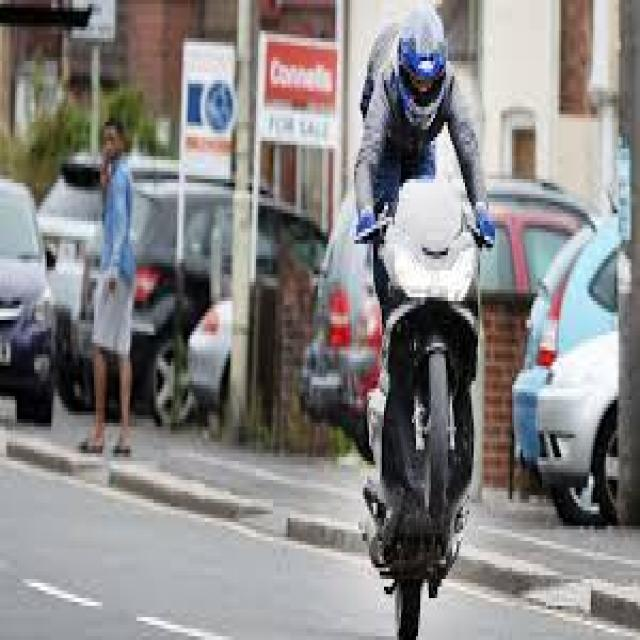Wheeling: (404, 52, 496, 580)
